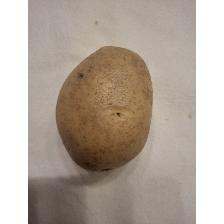Kartoffel: (52, 44, 156, 176)
